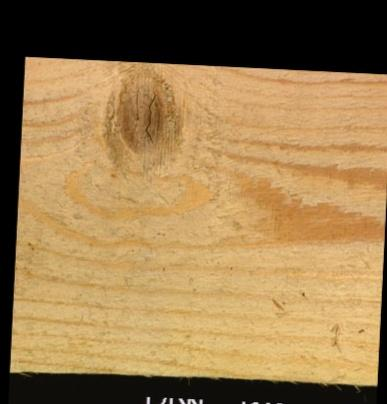sound_knot: (102, 67, 180, 166)
